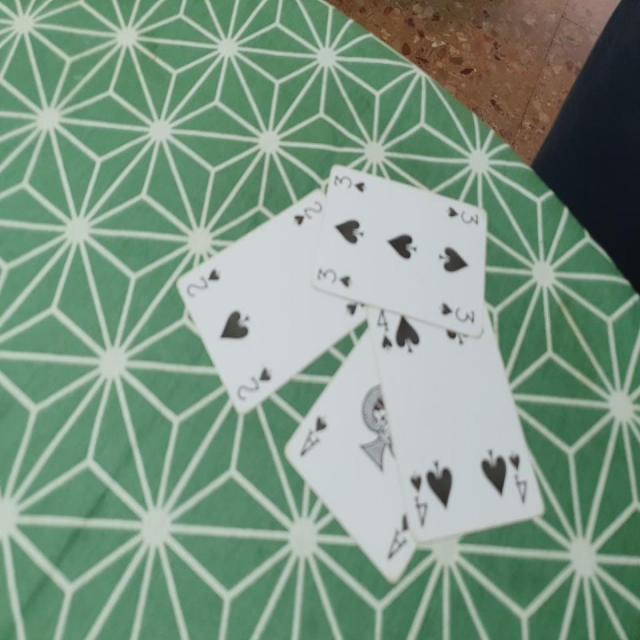2 Spades: (170, 183, 395, 426)
3 Spades: (308, 154, 492, 342)
4 Spades: (362, 300, 558, 554)
A Spades: (279, 332, 478, 602)
